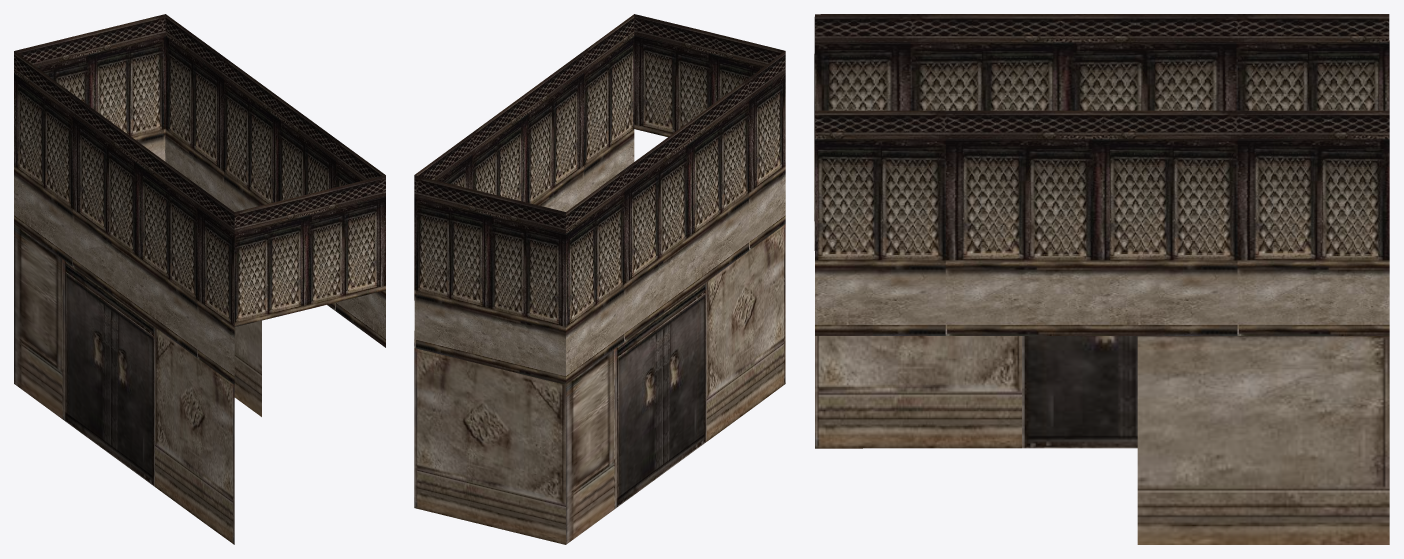
The picture shows the model from 3 angles, left to right: view 1: azimuth 30°, elevation 25°; view 2: azimuth 150°, elevation 25°; view 3: azimuth 270°, elevation 25°; orthographic projection. The views are drawn at different scales.
Visible parts, largest first — view 1: Object01; view 2: Object01; view 3: Object01.
Boxes of the visible parts, x1=… form: Object01: x1=14, y1=14, x2=385, y2=544; Object01: x1=414, y1=14, x2=785, y2=544; Object01: x1=814, y1=14, x2=1389, y2=544.
Bounding box in the file's own units: 75.57 × 159 × 190.
